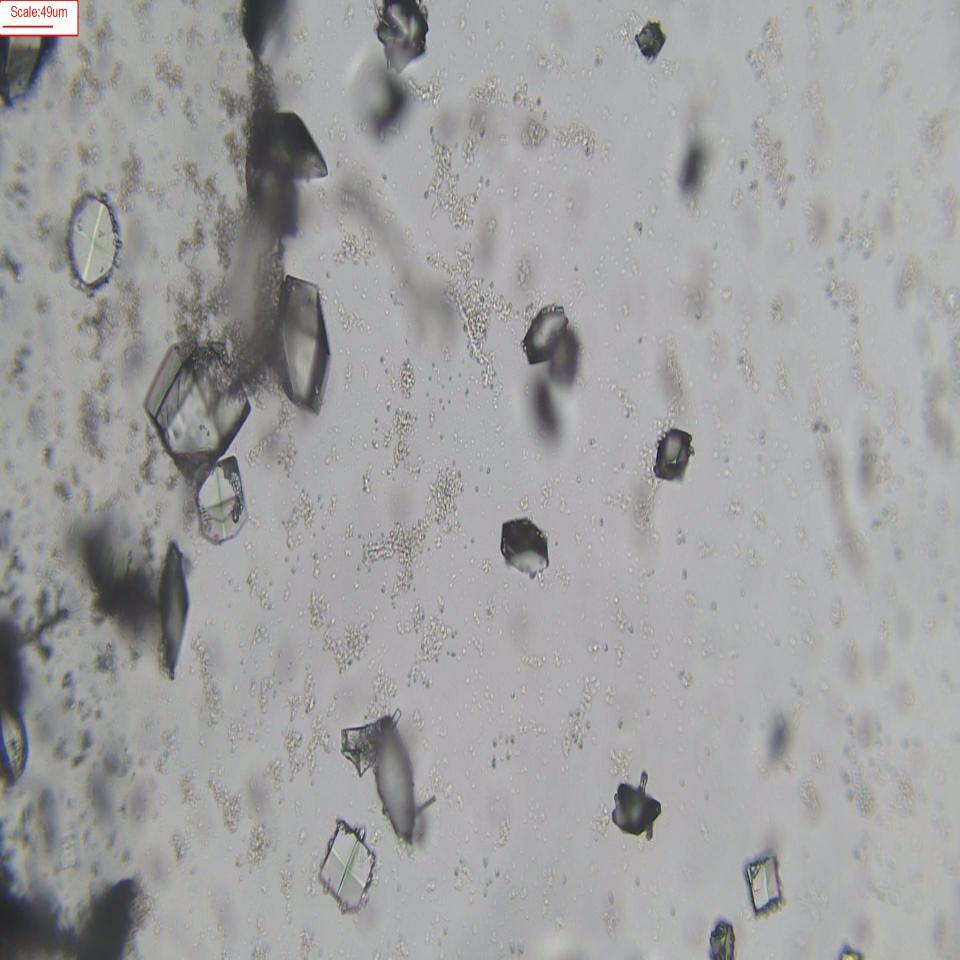crystal: (139, 334, 251, 462), (272, 272, 333, 414), (369, 716, 427, 853), (151, 540, 199, 673), (65, 187, 124, 289), (320, 821, 378, 906), (192, 459, 247, 534), (648, 418, 700, 487), (501, 519, 556, 584), (626, 11, 677, 80), (378, 2, 429, 68), (519, 300, 571, 363), (610, 779, 662, 840), (744, 853, 783, 909)
not_crystal: (246, 112, 328, 187)
